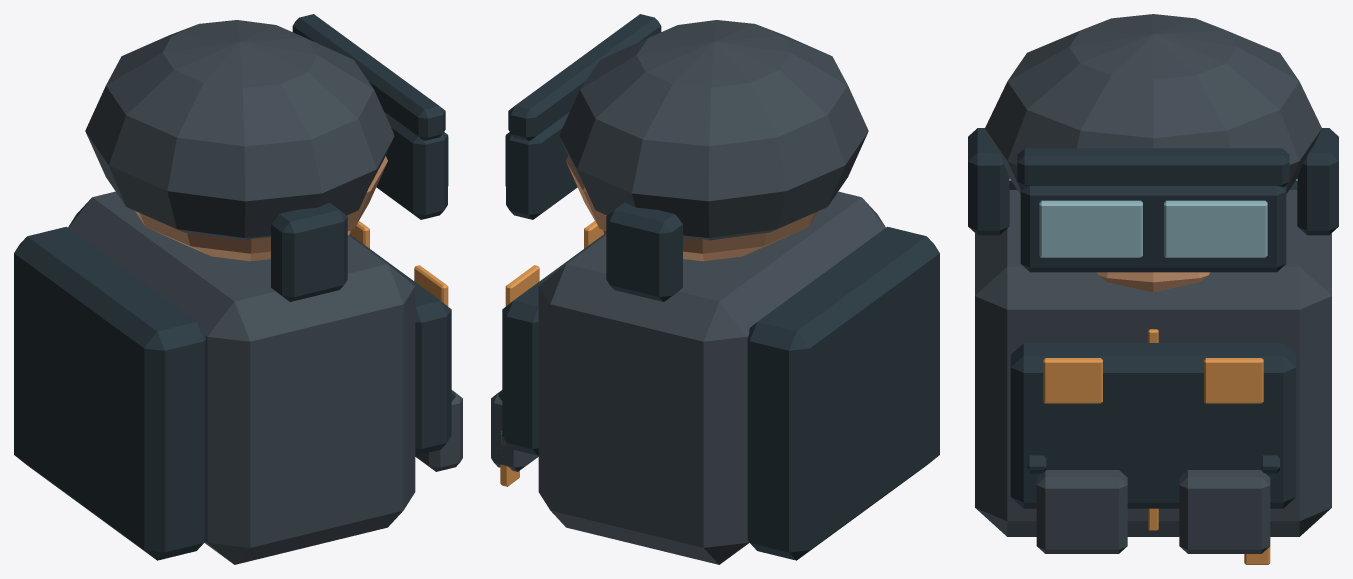
File: urban-assault.urban-utility.glb
3 views of the same model, side by side, from view 1: azimuth 30°, elevation 25°; view 2: azimuth 150°, elevation 25°; view 3: azimuth 270°, elevation 25° (orthographic). The views are drawn at different scales.
Visible parts, largest first — view 1: urban-assault_urban-utility__main__torso_finish_414b53_0.03, urban-assault_urban-utility__main__torso_finish_293840_0.03, urban-assault_urban-utility__main__head_finish_414b53_0.03, urban-assault_urban-utility__main__head_finish_293840_0.03, urban-assault_urban-utility__main__head_finish_c38f6a_0.03, urban-assault_urban-utility__main__torso_finish_e49a50_0.03; view 2: urban-assault_urban-utility__main__torso_finish_414b53_0.03, urban-assault_urban-utility__main__torso_finish_293840_0.03, urban-assault_urban-utility__main__head_finish_414b53_0.03, urban-assault_urban-utility__main__head_finish_293840_0.03, urban-assault_urban-utility__main__head_finish_c38f6a_0.03, urban-assault_urban-utility__main__torso_finish_e49a50_0.03; view 3: urban-assault_urban-utility__main__torso_finish_414b53_0.03, urban-assault_urban-utility__main__head_finish_414b53_0.03, urban-assault_urban-utility__main__torso_finish_293840_0.03, urban-assault_urban-utility__main__head_finish_293840_0.03, urban-assault_urban-utility__main__head_finish_91b6c0_0.03, urban-assault_urban-utility__main__torso_finish_e49a50_0.03, urban-assault_urban-utility__main__head_finish_c38f6a_0.03.
Boxes of the visible parts, box(x1,y1,x2,y2) form: urban-assault_urban-utility__main__torso_finish_414b53_0.03: box(68, 191, 462, 564); urban-assault_urban-utility__main__torso_finish_293840_0.03: box(14, 226, 455, 560); urban-assault_urban-utility__main__head_finish_414b53_0.03: box(85, 20, 394, 240); urban-assault_urban-utility__main__head_finish_293840_0.03: box(271, 14, 447, 301); urban-assault_urban-utility__main__head_finish_c38f6a_0.03: box(135, 156, 387, 261); urban-assault_urban-utility__main__torso_finish_e49a50_0.03: box(350, 221, 448, 306); urban-assault_urban-utility__main__torso_finish_414b53_0.03: box(491, 191, 885, 564); urban-assault_urban-utility__main__torso_finish_293840_0.03: box(498, 226, 939, 560); urban-assault_urban-utility__main__head_finish_414b53_0.03: box(559, 20, 868, 240); urban-assault_urban-utility__main__head_finish_293840_0.03: box(506, 14, 682, 301); urban-assault_urban-utility__main__head_finish_c38f6a_0.03: box(566, 156, 818, 261); urban-assault_urban-utility__main__torso_finish_e49a50_0.03: box(500, 221, 603, 486); urban-assault_urban-utility__main__torso_finish_414b53_0.03: box(975, 190, 1331, 553); urban-assault_urban-utility__main__head_finish_414b53_0.03: box(985, 14, 1321, 193); urban-assault_urban-utility__main__torso_finish_293840_0.03: box(1009, 180, 1297, 508); urban-assault_urban-utility__main__head_finish_293840_0.03: box(968, 128, 1338, 272); urban-assault_urban-utility__main__head_finish_91b6c0_0.03: box(1039, 200, 1267, 257); urban-assault_urban-utility__main__torso_finish_e49a50_0.03: box(1043, 329, 1270, 564); urban-assault_urban-utility__main__head_finish_c38f6a_0.03: box(1097, 272, 1209, 292).
Bounding box in the file's own units: 30.25 × 39.5 × 28.6.
